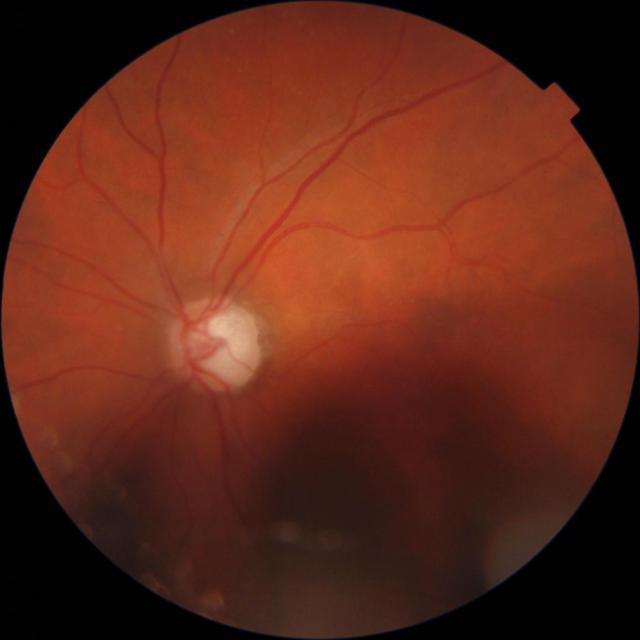OC: (209, 316, 253, 360)
OD: (172, 298, 262, 393)
